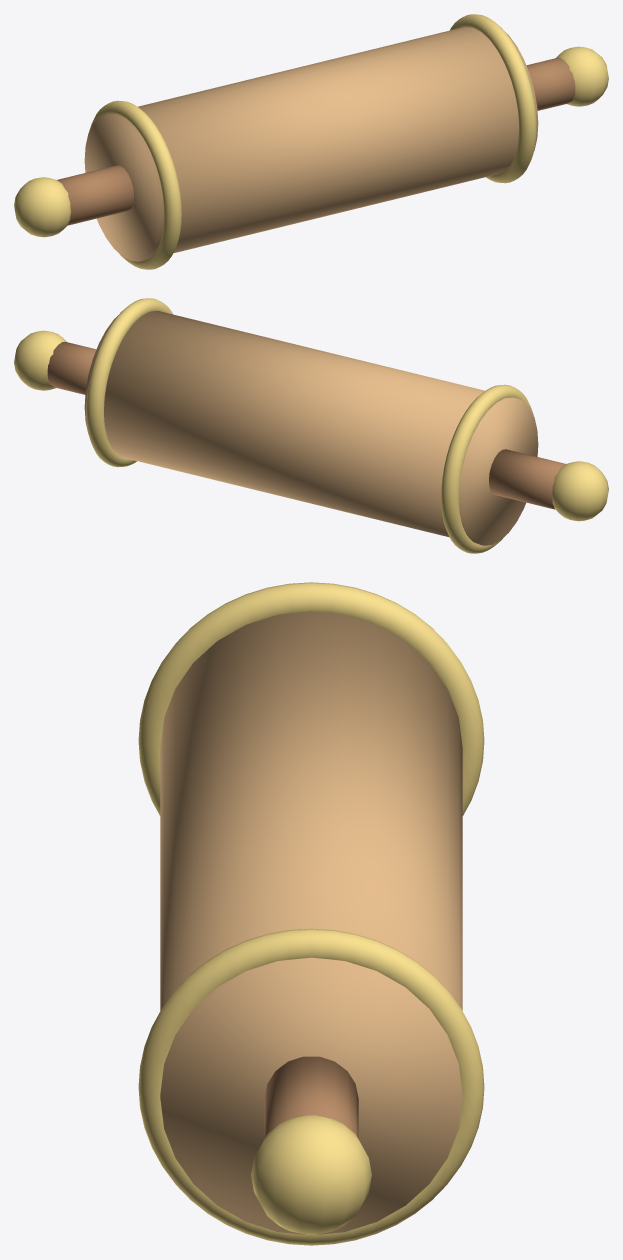
The model's file is hazard-rolling-pin.glb.
3 views of the same model, one above another, from view 1: azimuth 30°, elevation 25°; view 2: azimuth 150°, elevation 25°; view 3: azimuth 270°, elevation 25° (orthographic). The views are drawn at different scales.
Visible parts, largest first — view 1: Cylinder, Torus, Torus.001, Cylinder.001, Sphere, Sphere.001, Cylinder.002; view 2: Cylinder, Torus, Torus.001, Cylinder.001, Sphere, Sphere.001, Cylinder.002; view 3: Cylinder, Torus.001, Torus, Sphere.001, Cylinder.002.
Part boxes in pixels (bbox=[...]): Cylinder: bbox=[84, 27, 538, 261]; Torus: bbox=[89, 100, 181, 269]; Torus.001: bbox=[450, 14, 536, 183]; Cylinder.001: bbox=[57, 165, 133, 225]; Sphere: bbox=[14, 177, 70, 237]; Sphere.001: bbox=[556, 46, 608, 106]; Cylinder.002: bbox=[526, 57, 575, 110]; Cylinder: bbox=[84, 311, 538, 545]; Torus: bbox=[441, 384, 533, 553]; Torus.001: bbox=[86, 298, 172, 467]; Cylinder.001: bbox=[489, 449, 565, 509]; Sphere: bbox=[552, 461, 608, 521]; Sphere.001: bbox=[14, 330, 66, 390]; Cylinder.002: bbox=[47, 341, 96, 394]; Cylinder: bbox=[160, 611, 462, 1235]; Torus.001: bbox=[138, 928, 484, 1245]; Torus: bbox=[138, 582, 484, 815]; Sphere.001: bbox=[251, 1115, 371, 1234]; Cylinder.002: bbox=[264, 1056, 358, 1138].
Size of the model in its own units: 4.03 by 1.03 by 1.03.
